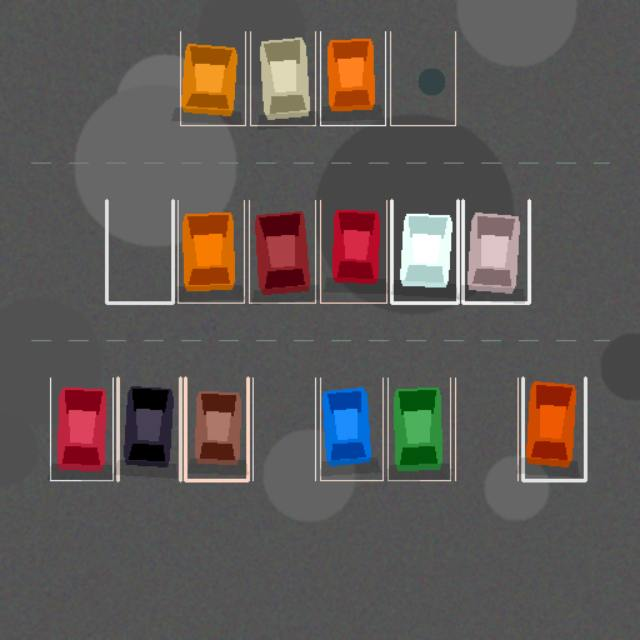space-empty: (106, 200, 172, 302), (252, 378, 315, 480), (455, 378, 518, 480), (390, 31, 455, 125)
space-occupied: (391, 200, 458, 302), (462, 200, 529, 302), (178, 200, 244, 302), (249, 200, 315, 302), (320, 200, 386, 302), (185, 378, 248, 480), (522, 378, 585, 480), (50, 378, 112, 480), (118, 378, 180, 480), (320, 378, 382, 480), (388, 378, 450, 480), (180, 31, 245, 125), (250, 31, 315, 125), (320, 31, 385, 125)
